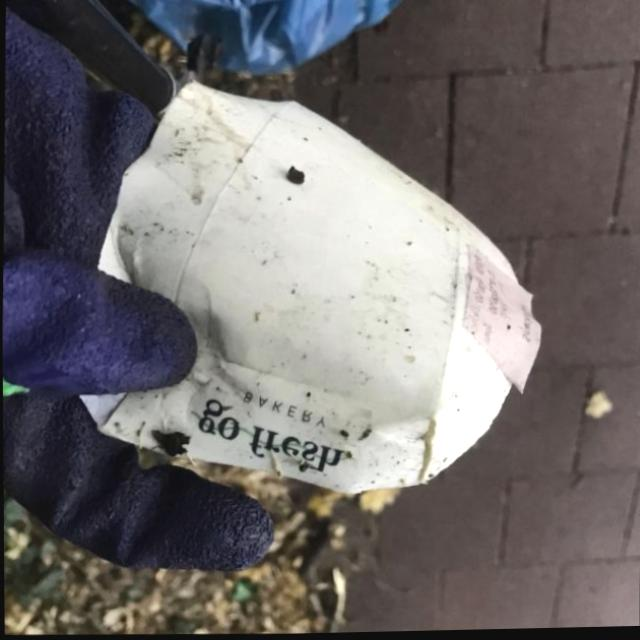Paper: (70, 68, 548, 509)
